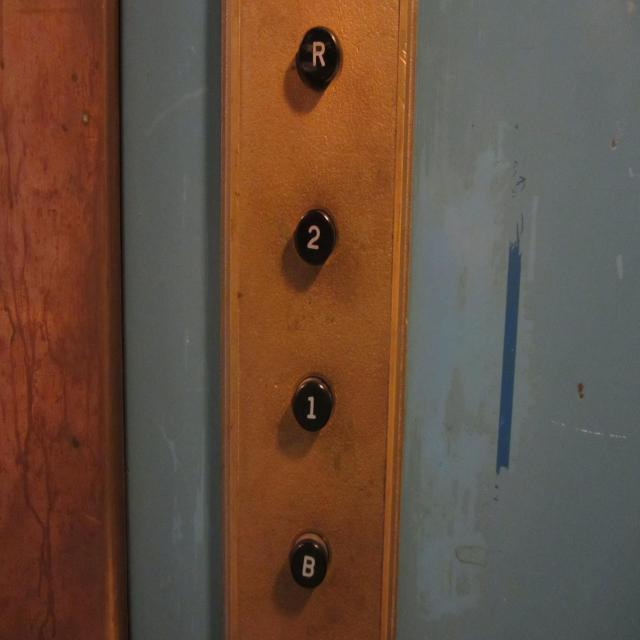1: (291, 373, 335, 433)
2: (293, 206, 337, 267)
B: (288, 532, 330, 590)
R: (296, 22, 342, 88)
